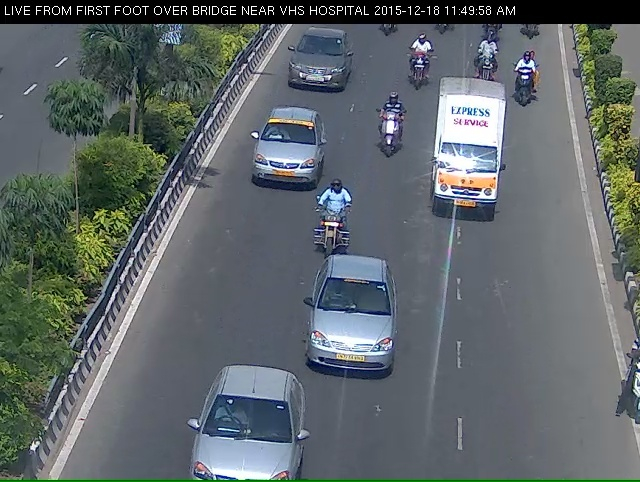Auto: (435, 88, 501, 228)
Car: (184, 385, 301, 478), (310, 279, 395, 400), (248, 123, 318, 206), (280, 35, 351, 103)
Person: (309, 201, 348, 275), (401, 41, 429, 94), (377, 103, 401, 164), (514, 58, 536, 110)
